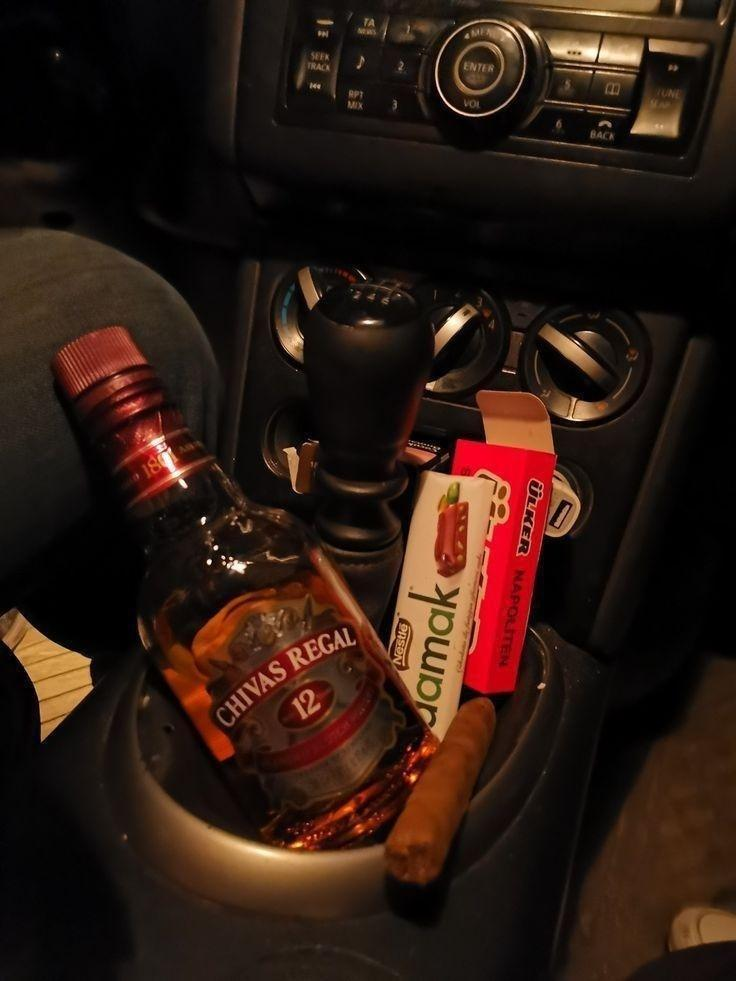bottle-glass: (51, 322, 437, 861)
